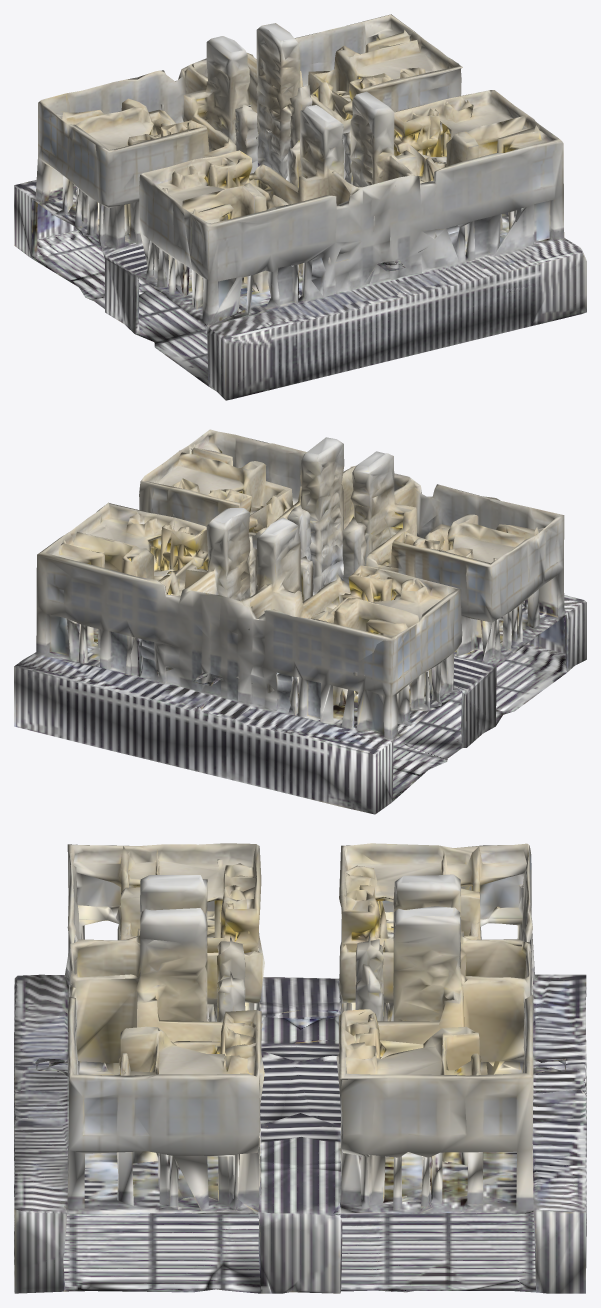
3 renders of one model, top to bottom at view 1: azimuth 30°, elevation 25°; view 2: azimuth 150°, elevation 25°; view 3: azimuth 270°, elevation 25°, orthographic. The views are drawn at different scales.
Parts seen in each view (by area): view 1: Mesh_0; view 2: Mesh_0; view 3: Mesh_0.
Part boxes in pixels (<box>): Mesh_0: <box>14,14,586,400</box>; Mesh_0: <box>14,429,586,814</box>; Mesh_0: <box>14,843,586,1293</box>.
Size of the model in its own units: 1.91 by 1.06 by 1.94.
Materials: 1 (1 with a texture image).
